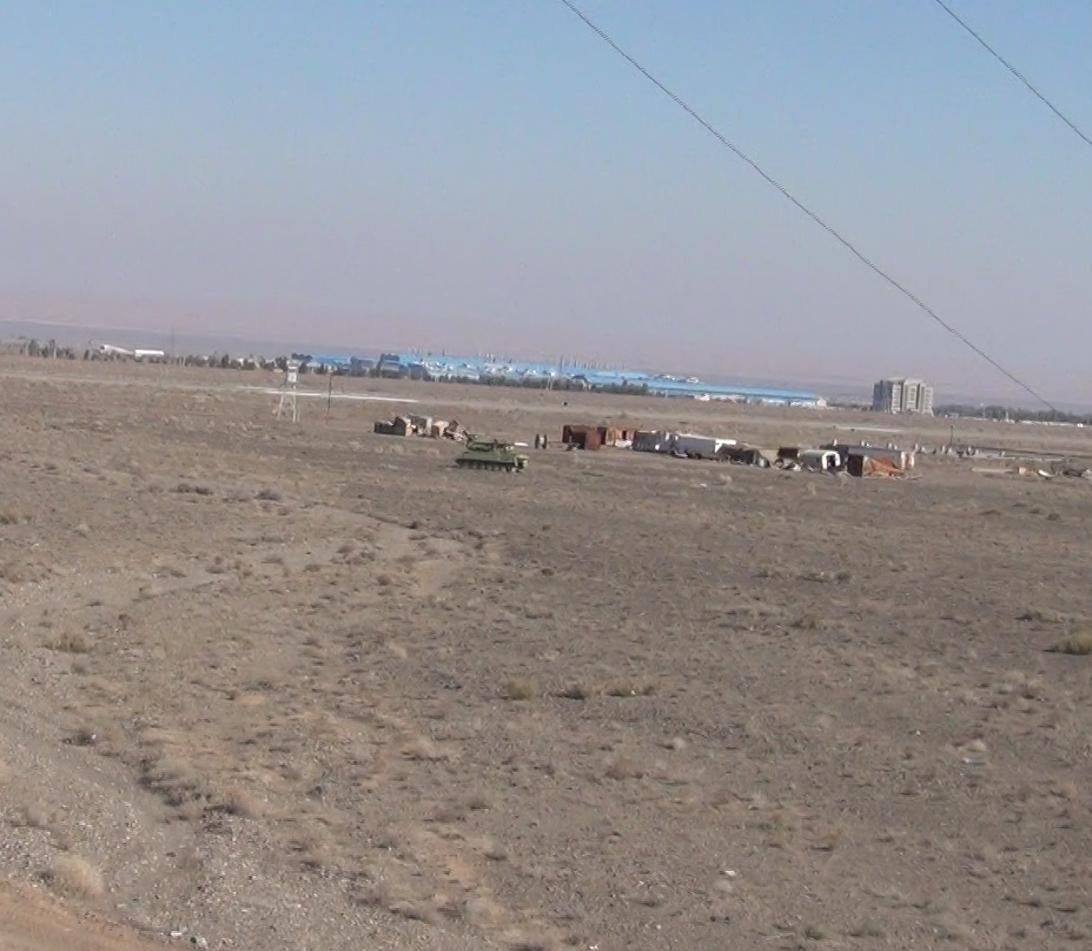armored_car: (454, 436, 533, 475)
